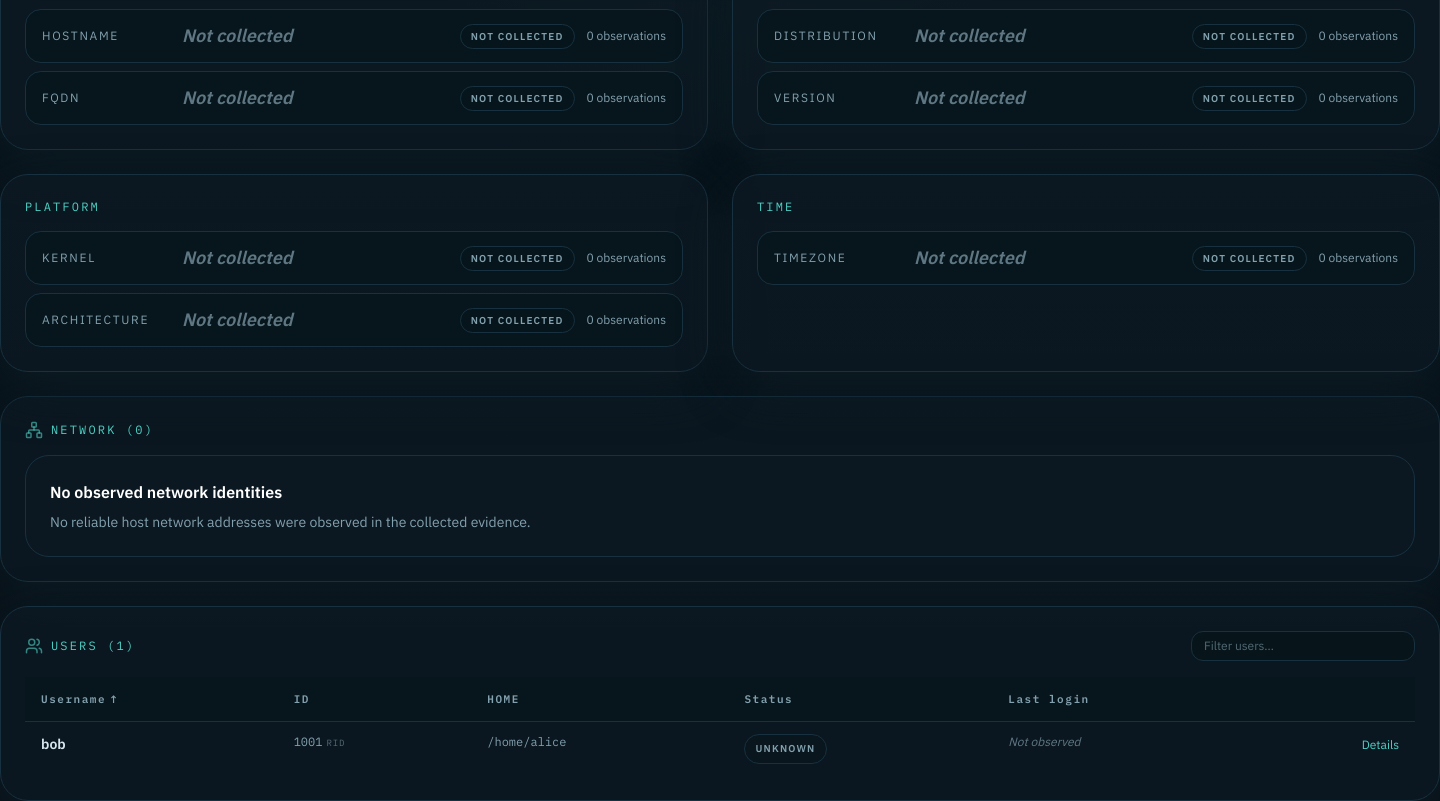
Test case: HostInformationPage › User Inventory › labels a Windows account's identifier as RID instead of UID, with no platform branch of its own
(page scrolled)
expect the cell with test id "user-uid" shows "1001": met, box left=294, top=734, right=322, bottom=749
expect the cell with test id "user-uid" shows "RID": met, box left=326, top=737, right=345, bottom=748
Click the button with test id "user-expand-toggle" at (1380, 745), box left=1362, top=737, right=1399, bottom=753
(page scrolled)
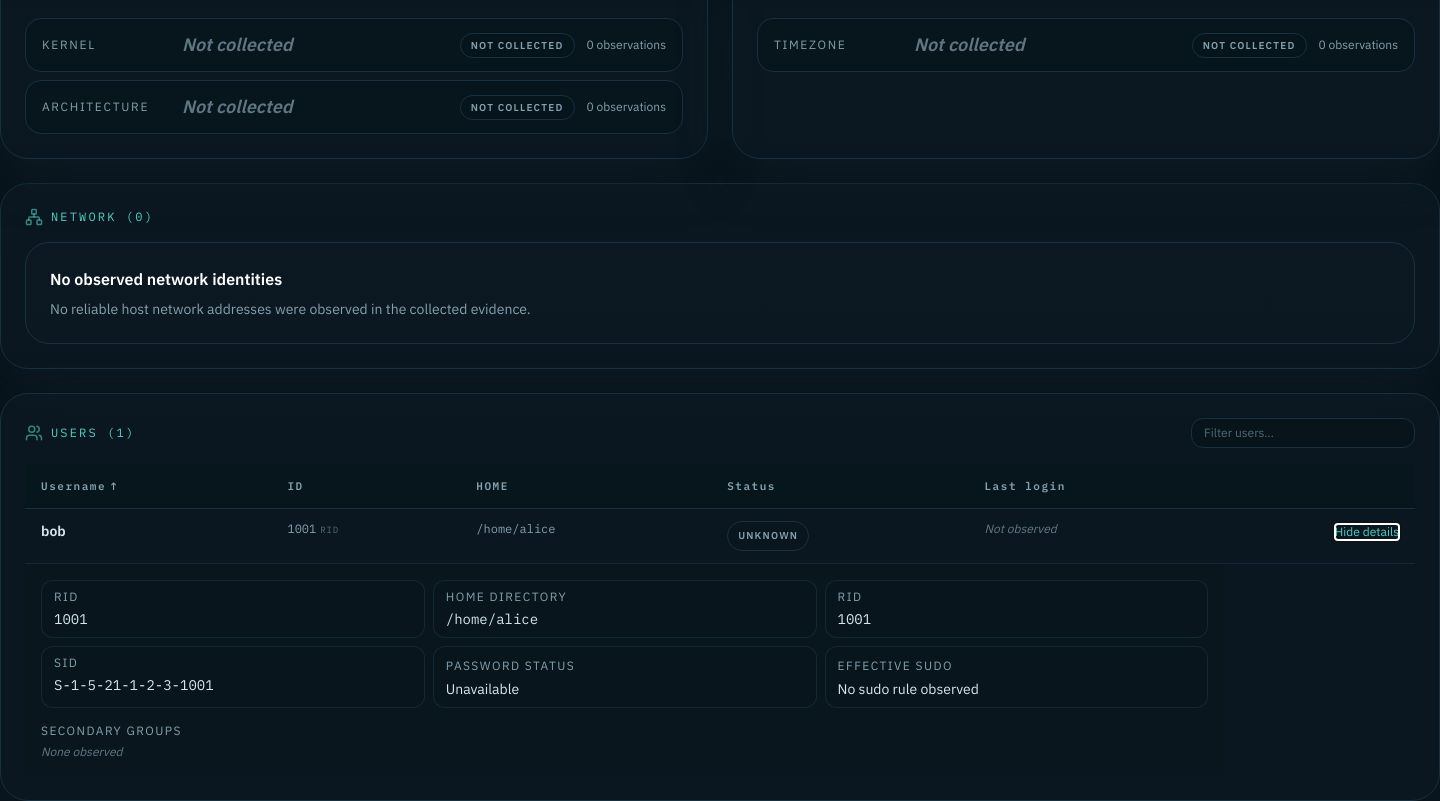
expect the element with test id "user-field-detail" shows "1001": met, box left=838, top=610, right=871, bottom=628
expect the element with test id "user-field-detail" shows "S-1-5-21-1-2-3-1001": met, box left=54, top=676, right=214, bottom=694
